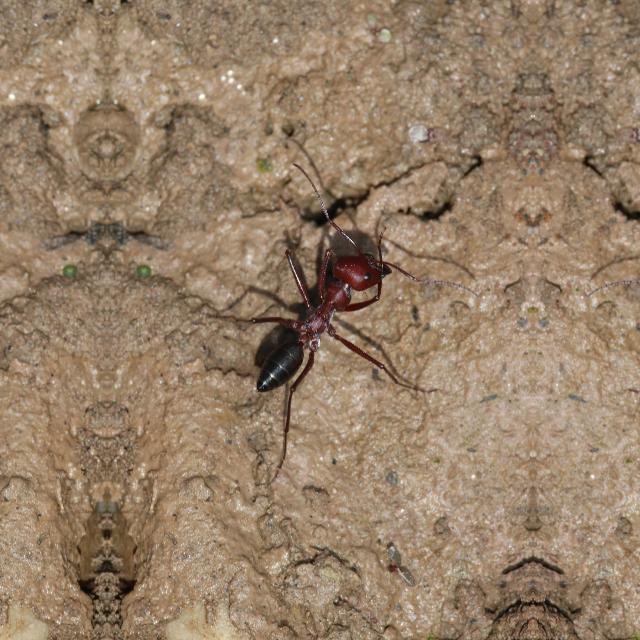Cataglyphis: (241, 210, 404, 428)
